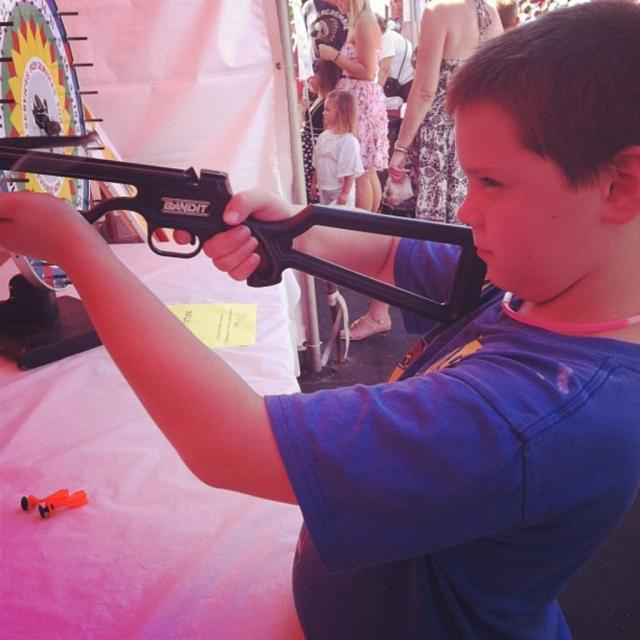weapon: (3, 127, 490, 326)
